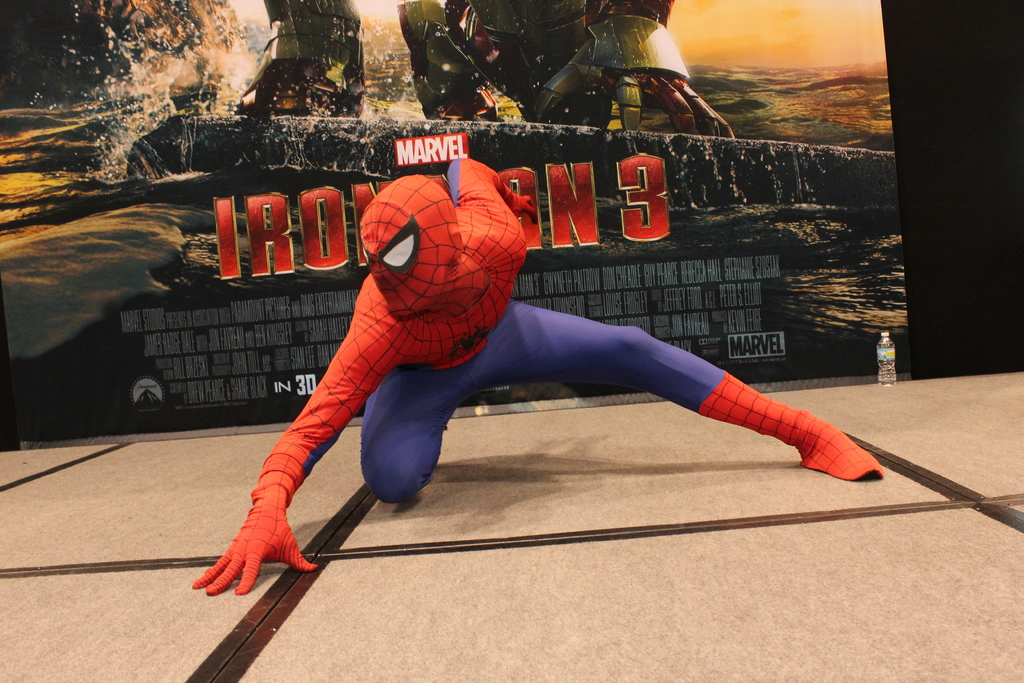Person: (192, 157, 883, 595)
